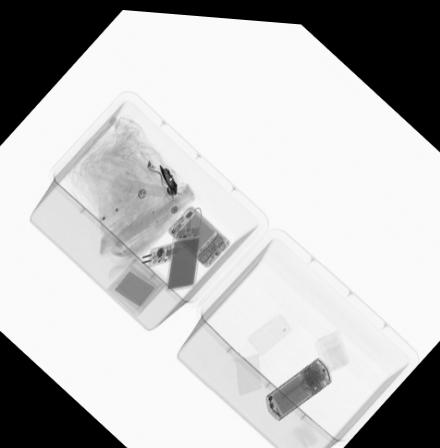Powerbank: (163, 224, 201, 288)
